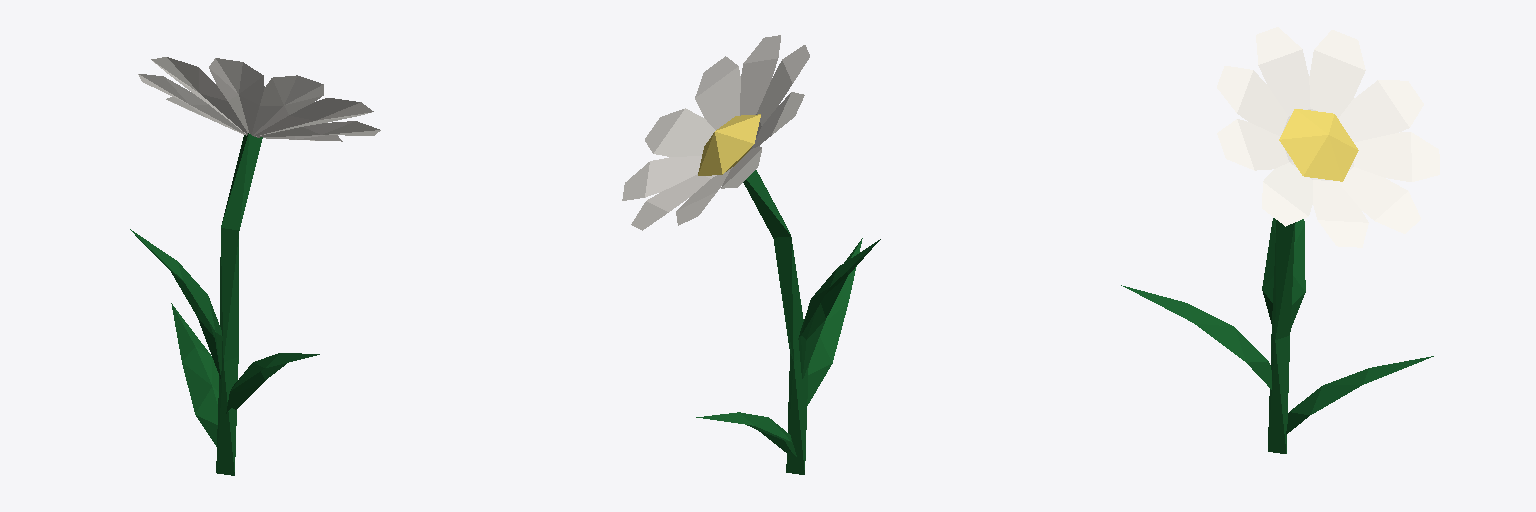
The model's file is Prop_Flower_Daisy.obj.
3 renders of one model, left to right at view 1: azimuth 30°, elevation 25°; view 2: azimuth 150°, elevation 25°; view 3: azimuth 270°, elevation 25°, orthographic.
Visible parts, largest first — view 1: object8, object2, object6, object16, object3, object10, object14, object5, object7, object15, object9, object12; view 2: object9, object7, object11, object3, object15, object1, object16, object2, object10, object4, object6, object5 (+4 smaller); view 3: object11, object14, object12, object13, object6, object4, object16, object1, object7, object15, object9, object2 (+3 smaller).
Boxes of the visible parts, <box> form: object8: <box>171,303,218,446</box>; object2: <box>220,228,238,361</box>; object6: <box>209,58,264,134</box>; object16: <box>252,75,323,135</box>; object3: <box>130,229,222,378</box>; object10: <box>216,357,238,475</box>; object14: <box>151,57,247,134</box>; object5: <box>221,133,262,230</box>; object7: <box>254,98,373,136</box>; object15: <box>226,353,319,413</box>; object9: <box>257,121,380,137</box>; object12: <box>138,74,246,135</box>; object9: <box>645,108,715,156</box>; object7: <box>695,56,740,129</box>; object11: <box>698,114,760,175</box>; object3: <box>798,239,880,378</box>; object15: <box>807,238,862,405</box>; object1: <box>622,156,701,200</box>; object16: <box>740,35,780,115</box>; object2: <box>773,237,803,360</box>; object10: <box>786,354,808,474</box>; object4: <box>631,174,716,230</box>; object6: <box>756,45,809,135</box>; object5: <box>743,170,790,237</box>; object11: <box>1279,109,1358,181</box>; object14: <box>1309,30,1365,117</box>; object12: <box>1338,80,1423,141</box>; object13: <box>1351,132,1439,181</box>; object6: <box>1256,27,1310,117</box>; object4: <box>1337,166,1420,233</box>; object16: <box>1217,66,1289,136</box>; object1: <box>1312,178,1368,247</box>; object7: <box>1217,119,1292,170</box>; object15: <box>1121,285,1271,389</box>; object9: <box>1262,161,1312,226</box>; object2: <box>1272,220,1294,339</box>.
Bounding box in the file's own units: 0.3185 × 0.5257 × 0.3644.